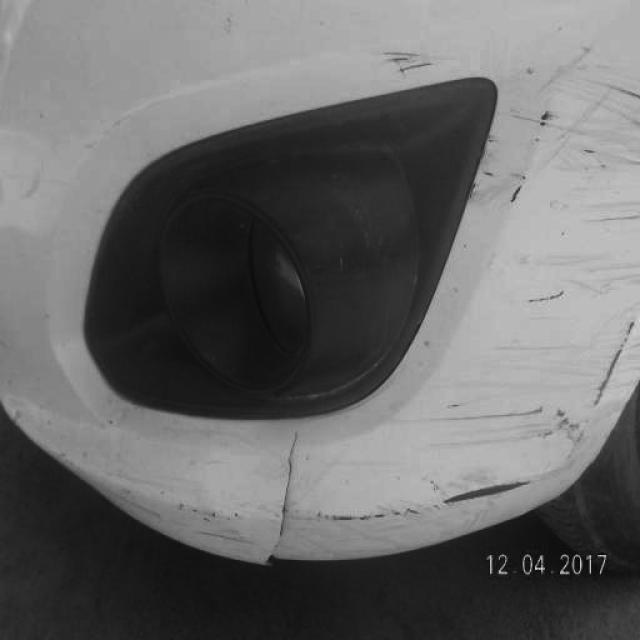car damage: (537, 37, 640, 182), (308, 469, 540, 525), (436, 405, 592, 456), (107, 479, 253, 527), (259, 430, 304, 577), (122, 500, 256, 548), (588, 314, 640, 416), (379, 404, 547, 430), (377, 47, 449, 86), (503, 168, 535, 217), (531, 98, 558, 155)
